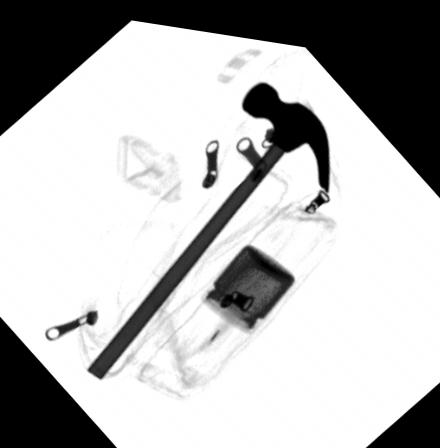Hammer: (83, 71, 329, 376)
